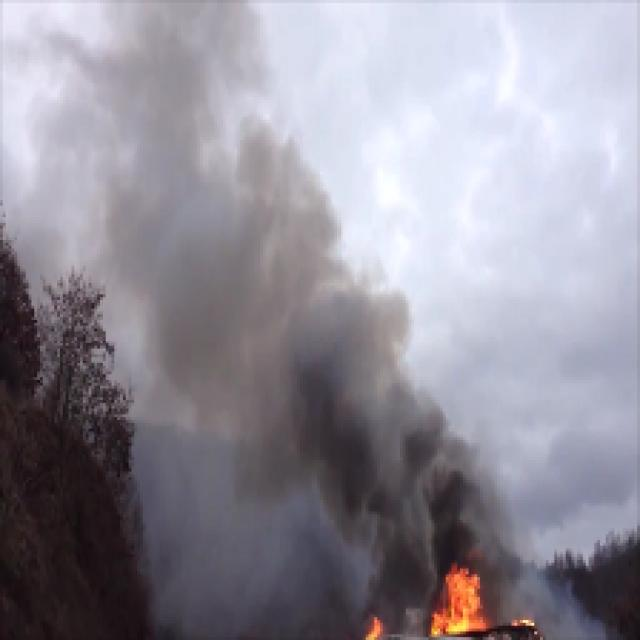smoke: (135, 5, 285, 445), (301, 308, 402, 535)
